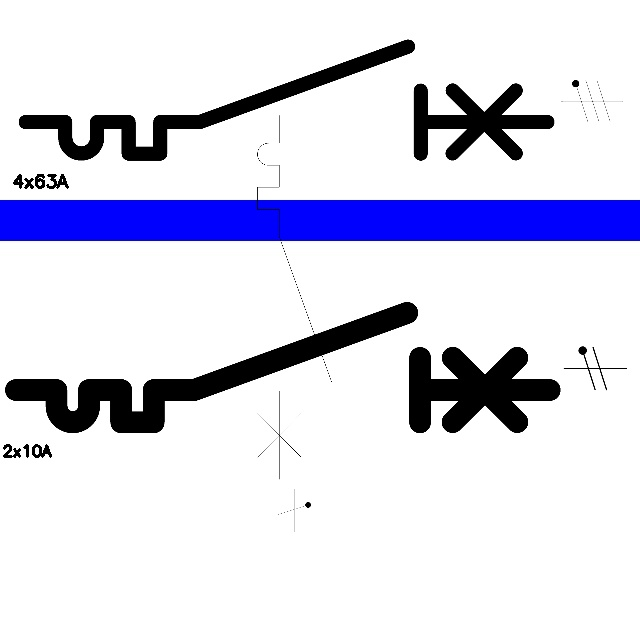interruptor_termomagnetico: (2, 299, 564, 436), (12, 33, 561, 167), (248, 106, 341, 488)
